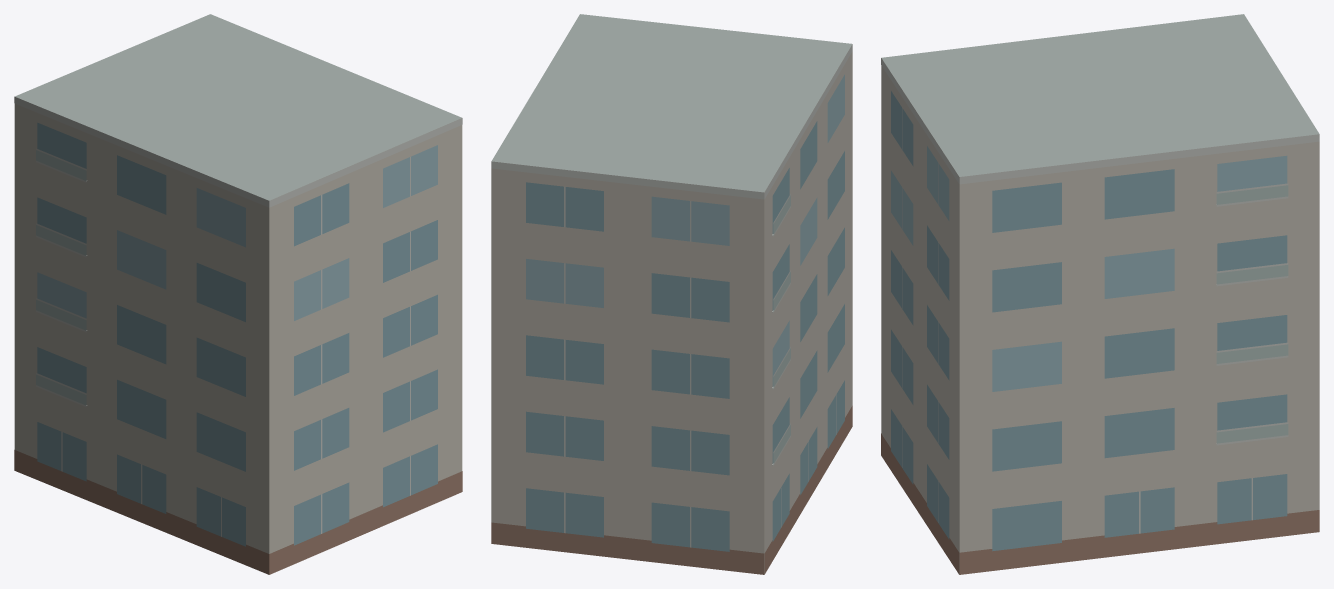
The model's file is survey-upis-32933191.glb.
The picture shows the model from 3 angles, left to right: view 1: azimuth 30°, elevation 25°; view 2: azimuth 150°, elevation 25°; view 3: azimuth 270°, elevation 25°; orthographic projection. The views are drawn at different scales.
Visible parts, largest first — view 1: survey-upis-32933191.tmp; view 2: survey-upis-32933191.tmp; view 3: survey-upis-32933191.tmp.
Boxes of the visible parts, x1,y1,x2,y2 form: survey-upis-32933191.tmp: (14, 14, 462, 574); survey-upis-32933191.tmp: (491, 14, 852, 574); survey-upis-32933191.tmp: (881, 14, 1319, 574).
Bounding box in the file's own units: 11.61 × 13.2 × 13.2.
